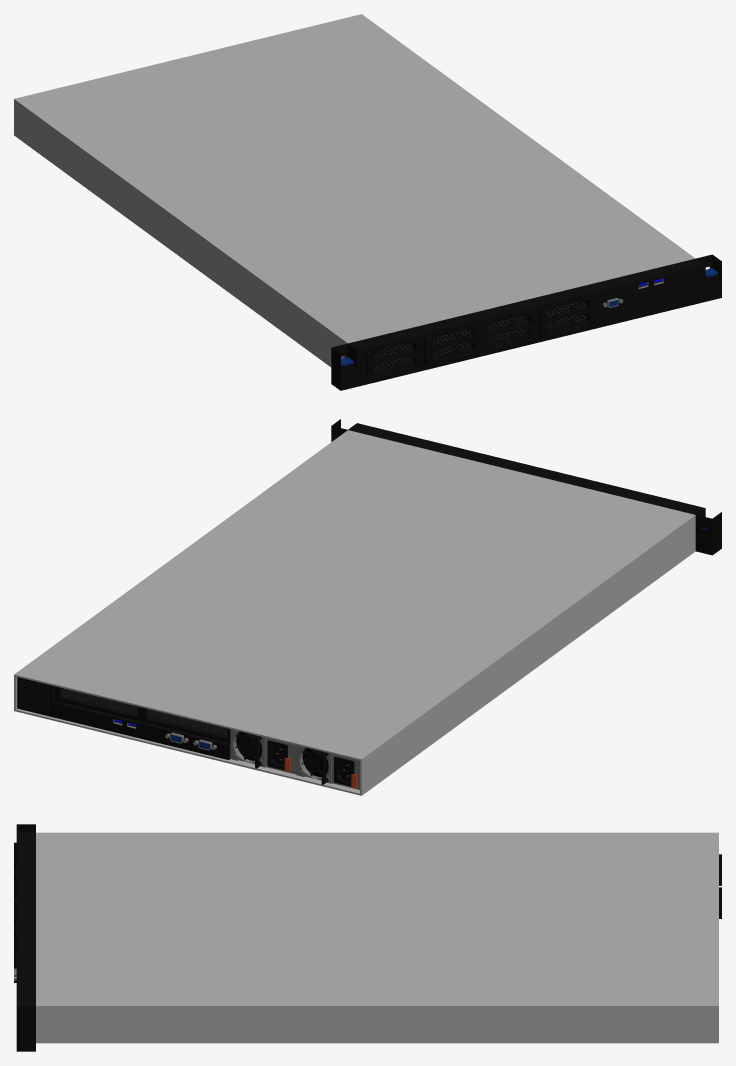
Rendered from IBM_X3550 M4.fbx.
3 views of the same model, one above another, from view 1: azimuth 30°, elevation 25°; view 2: azimuth 150°, elevation 25°; view 3: azimuth 270°, elevation 25° (orthographic). The views are drawn at different scales.
Visible parts, largest first — view 1: IBM_X3550 M4; view 2: IBM_X3550 M4; view 3: IBM_X3550 M4.
Boxes of the visible parts, bbox=[...] form: IBM_X3550 M4: bbox=[14, 14, 721, 390]; IBM_X3550 M4: bbox=[14, 419, 721, 795]; IBM_X3550 M4: bbox=[14, 824, 721, 1051].
Size of the model in its own units: 470 by 43 by 740.
Materials: 12 (2 with a texture image).
